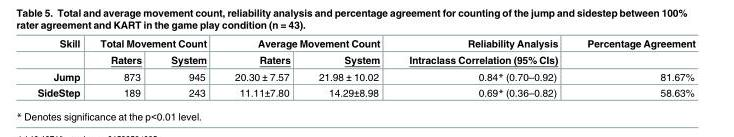table: (36, 36, 694, 98)
table column: (393, 36, 571, 98), (571, 36, 694, 98), (303, 36, 393, 98), (220, 36, 303, 98), (89, 36, 155, 98), (155, 36, 220, 98), (36, 36, 89, 98)
table column header: (36, 36, 694, 67)
table row: (36, 50, 694, 67), (36, 67, 694, 84), (36, 36, 694, 50), (36, 84, 694, 98)
table spanning cell: (393, 36, 571, 67), (571, 36, 694, 67), (220, 36, 393, 50), (89, 36, 220, 50), (36, 36, 89, 67)
